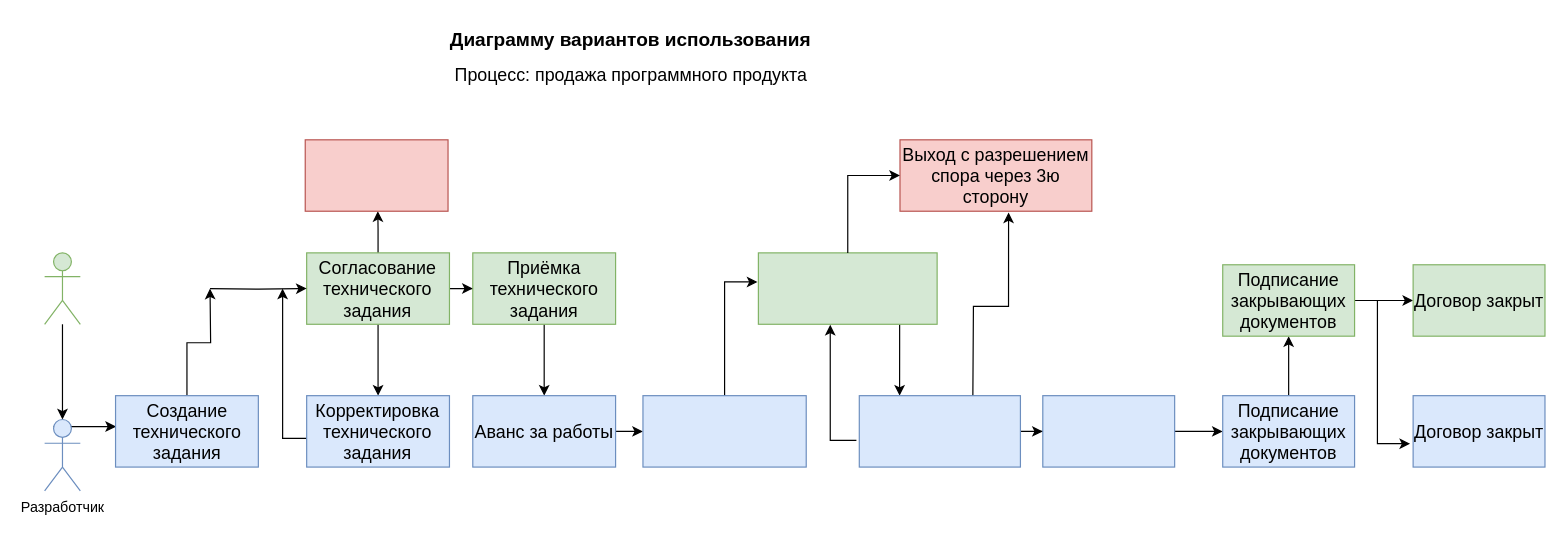
The diagram is 1566 pixels wide and 536 high, and some of its shapes have lost their labels. The box of each missing label's shape, as (x1, y1, x2, y2) in pixels:
Выполнение работ по программированию: (642, 394, 806, 467)
Выход без договора: (304, 139, 448, 211)
Заказчик: (43, 252, 80, 324)
Корректировка работ по программированию: (858, 394, 1020, 467)
Получение окончательного расчёта: (1042, 394, 1175, 467)
Приёмка работ по программированию: (757, 252, 937, 324)
